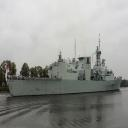Fragata: (8, 33, 124, 100)
